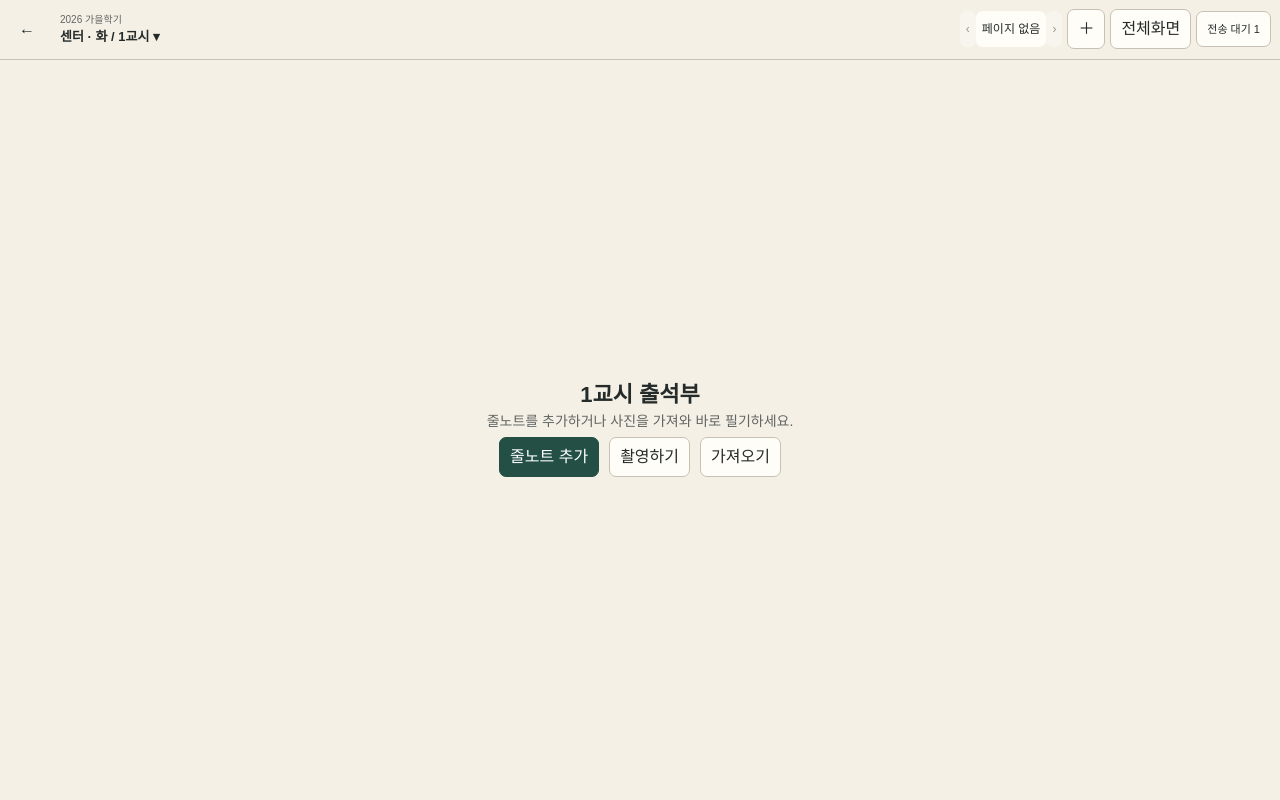
Scenario: shows only active locations once and opens a weekday's lesson without management writes
Click the text "센터 · 화 / 1교시 ▾".
click(110, 37)  # box left=60, top=27, right=160, bottom=46
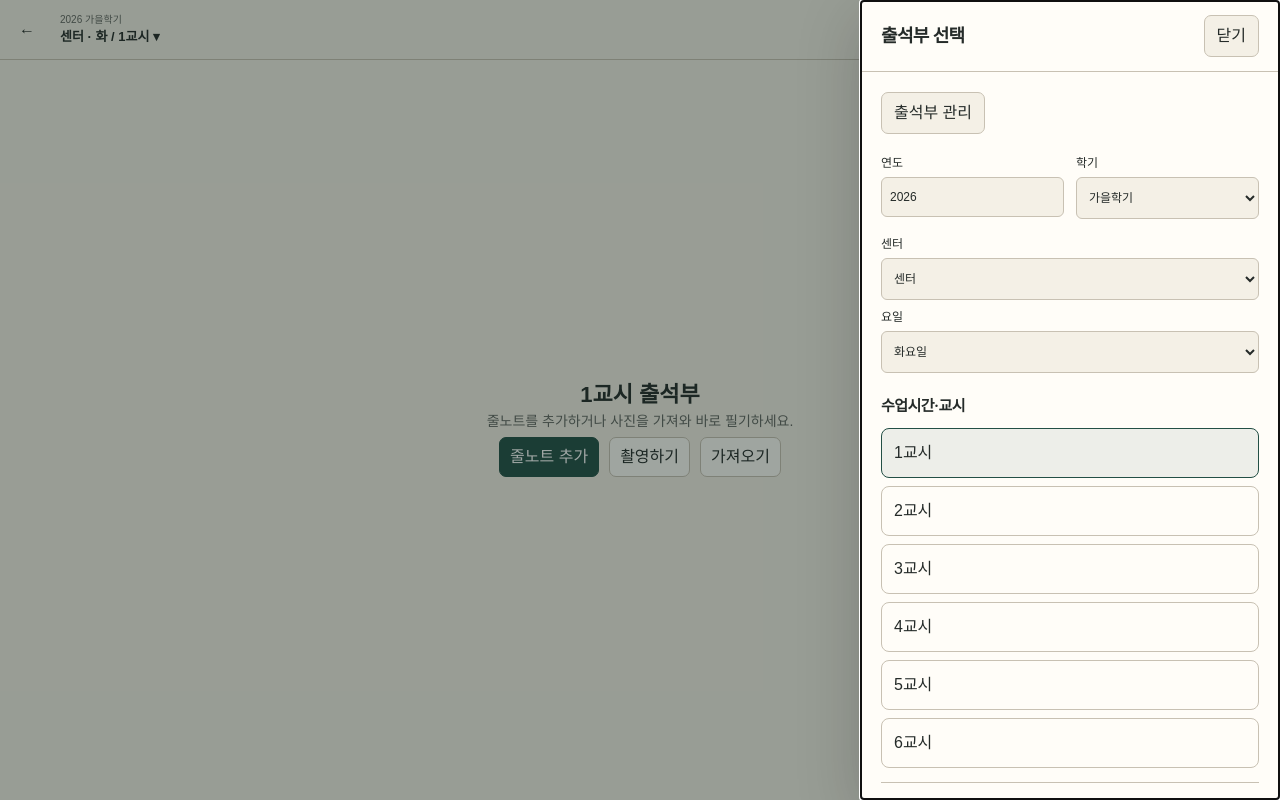
Select "수요일" in the dropdown named "요일 선택" at (1070,352), box left=881, top=331, right=1259, bottom=373
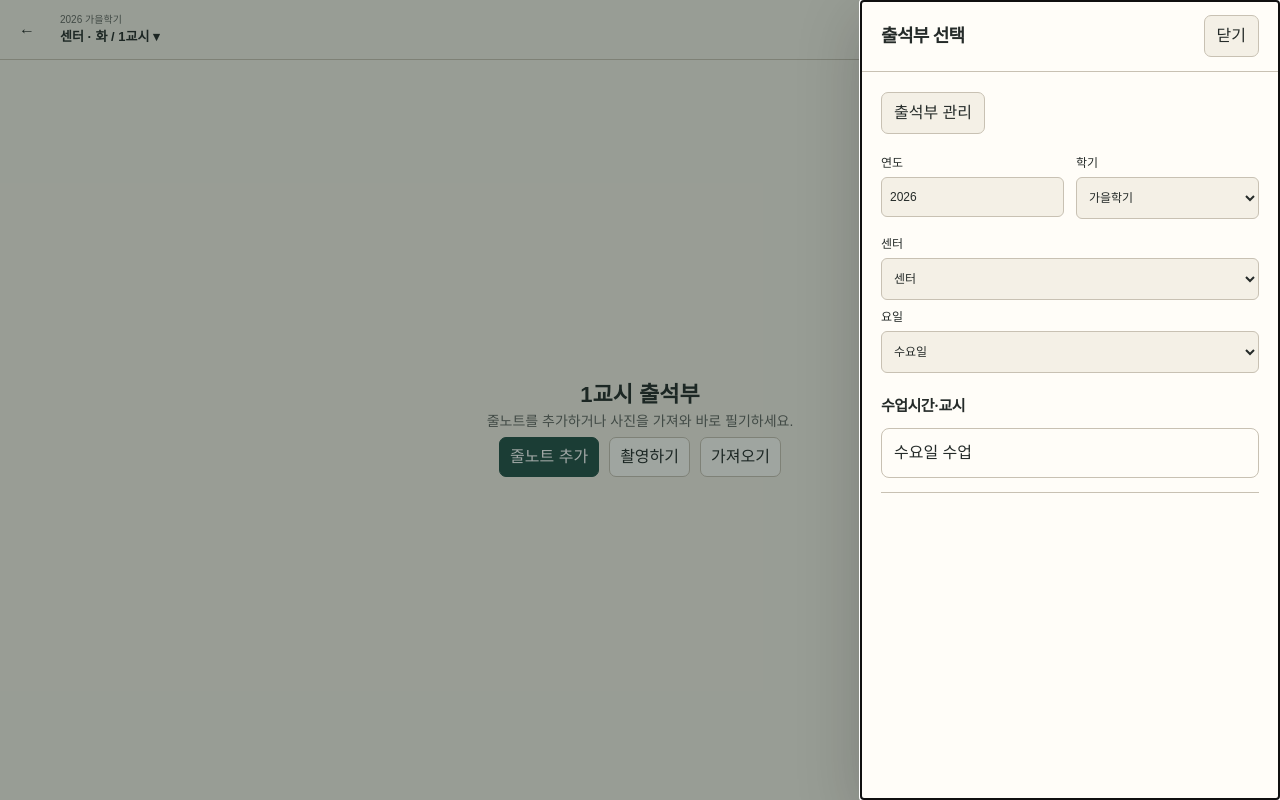
Click the button "수요일 수업".
click(933, 452)  # box left=881, top=428, right=1259, bottom=478
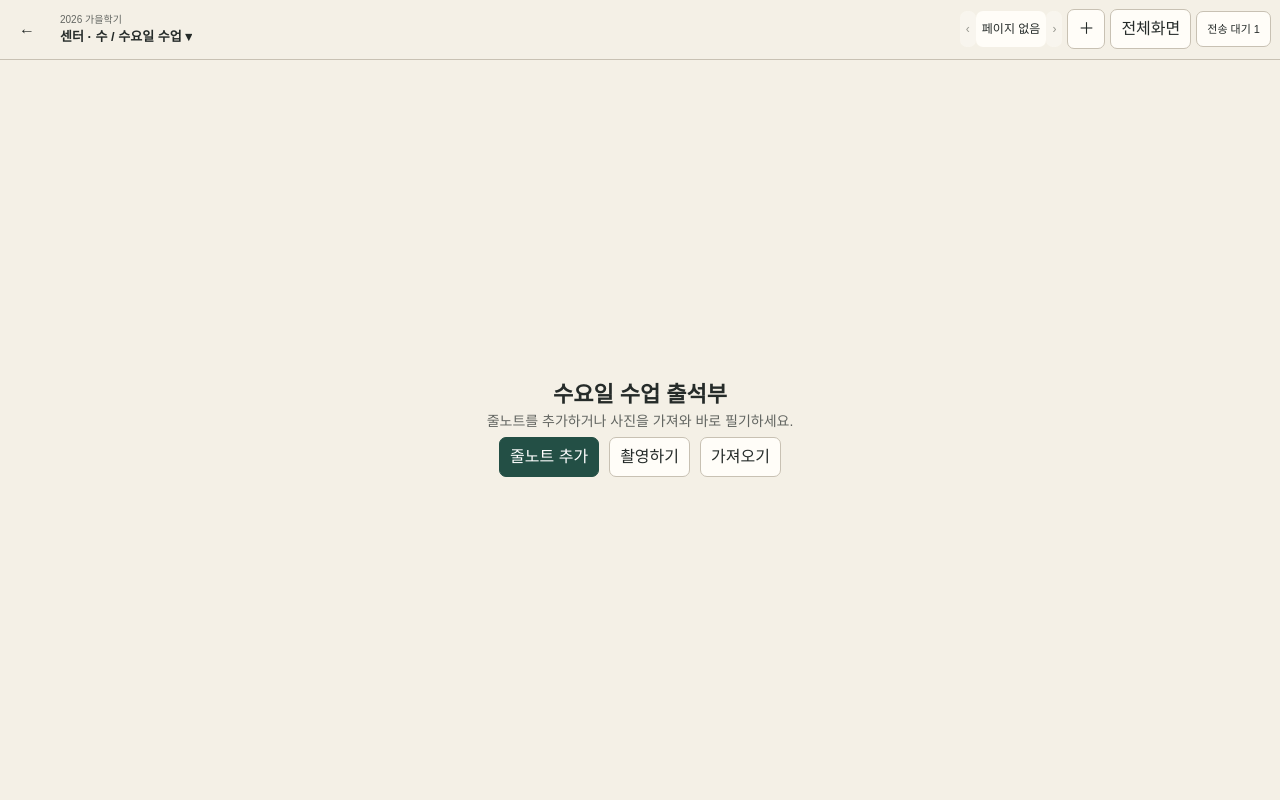
Result: the dialog is gone
Result: the text "센터 · 수 / 수요일 수업 ▾" is shown at left=60, top=27, right=192, bottom=46
